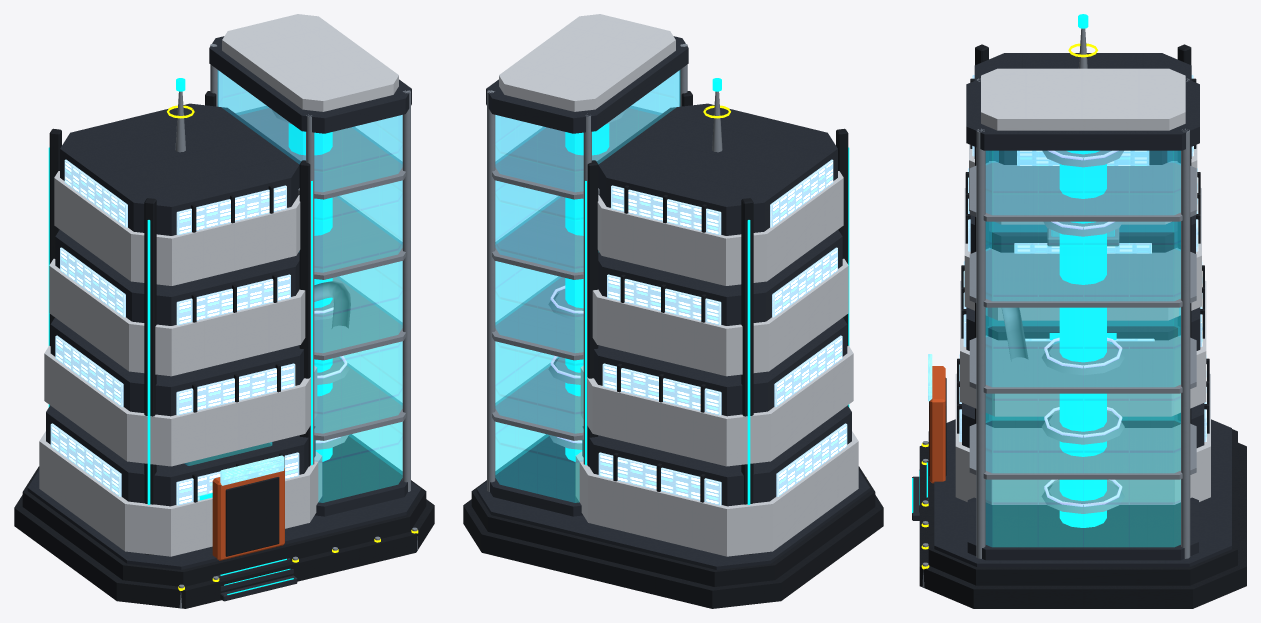
Rendered from bldg_09_winner.glb.
3 views of the same model, side by side, from view 1: azimuth 30°, elevation 25°; view 2: azimuth 150°, elevation 25°; view 3: azimuth 270°, elevation 25° (orthographic). The views are drawn at different scales.
Visible parts, largest first — view 1: Bldg09_C02_aero_white, Bldg09_C02_carbon_slate, Bldg09_C02_glass_cyan, Bldg09_C02_gunmetal, Bldg09_C02_steel_machined, Bldg09_C02_window_lit, Bldg09_C02_led_cyan, Bldg09_C02_accent_orange, Bldg09_C02_marquee; view 2: Bldg09_C02_aero_white, Bldg09_C02_carbon_slate, Bldg09_C02_glass_cyan, Bldg09_C02_gunmetal, Bldg09_C02_steel_machined, Bldg09_C02_window_lit, Bldg09_C02_led_cyan; view 3: Bldg09_C02_glass_cyan, Bldg09_C02_steel_machined, Bldg09_C02_carbon_slate, Bldg09_C02_aero_white, Bldg09_C02_gunmetal, Bldg09_C02_led_cyan, Bldg09_C02_window_lit, Bldg09_C02_accent_orange, Bldg09_C02_led_uv.
Part boxes in pixels (x1,y1,x2,y2): Bldg09_C02_aero_white: (39,14,398,556); Bldg09_C02_carbon_slate: (27,36,421,601); Bldg09_C02_glass_cyan: (185,70,402,502); Bldg09_C02_gunmetal: (14,91,434,608); Bldg09_C02_steel_machined: (175,44,417,608); Bldg09_C02_window_lit: (50,159,299,505); Bldg09_C02_led_cyan: (48,78,332,594); Bldg09_C02_accent_orange: (212,468,284,560); Bldg09_C02_marquee: (220,455,284,485); Bldg09_C02_aero_white: (499,14,858,556); Bldg09_C02_carbon_slate: (476,36,870,569); Bldg09_C02_glass_cyan: (495,70,680,502); Bldg09_C02_gunmetal: (463,91,883,608); Bldg09_C02_steel_machined: (487,43,866,491); Bldg09_C02_window_lit: (598,159,847,505); Bldg09_C02_led_cyan: (565,78,849,504); Bldg09_C02_glass_cyan: (985,150,1180,546); Bldg09_C02_steel_machined: (922,28,1196,587); Bldg09_C02_carbon_slate: (912,53,1231,567); Bldg09_C02_aero_white: (955,68,1210,504); Bldg09_C02_gunmetal: (919,44,1246,608); Bldg09_C02_led_cyan: (912,14,1116,527); Bldg09_C02_window_lit: (959,75,1206,441); Bldg09_C02_accent_orange: (929,366,945,483); Bldg09_C02_led_uv: (1044,150,1122,506).
Bounding box in the file's own units: 12 × 16.42 × 10.23.
11 materials, 11 textured.
